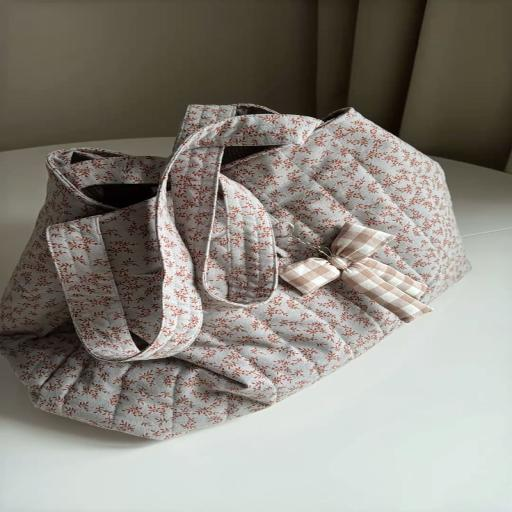door: (0, 106, 469, 438)
